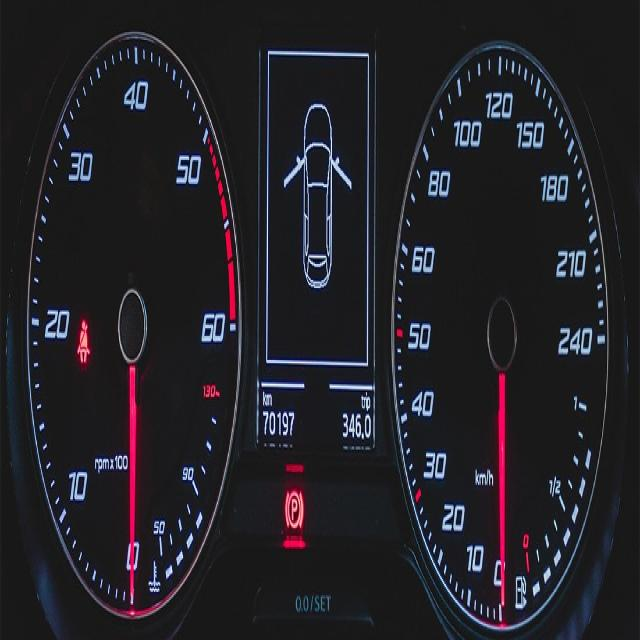kontrolka: (280, 473, 309, 548)
